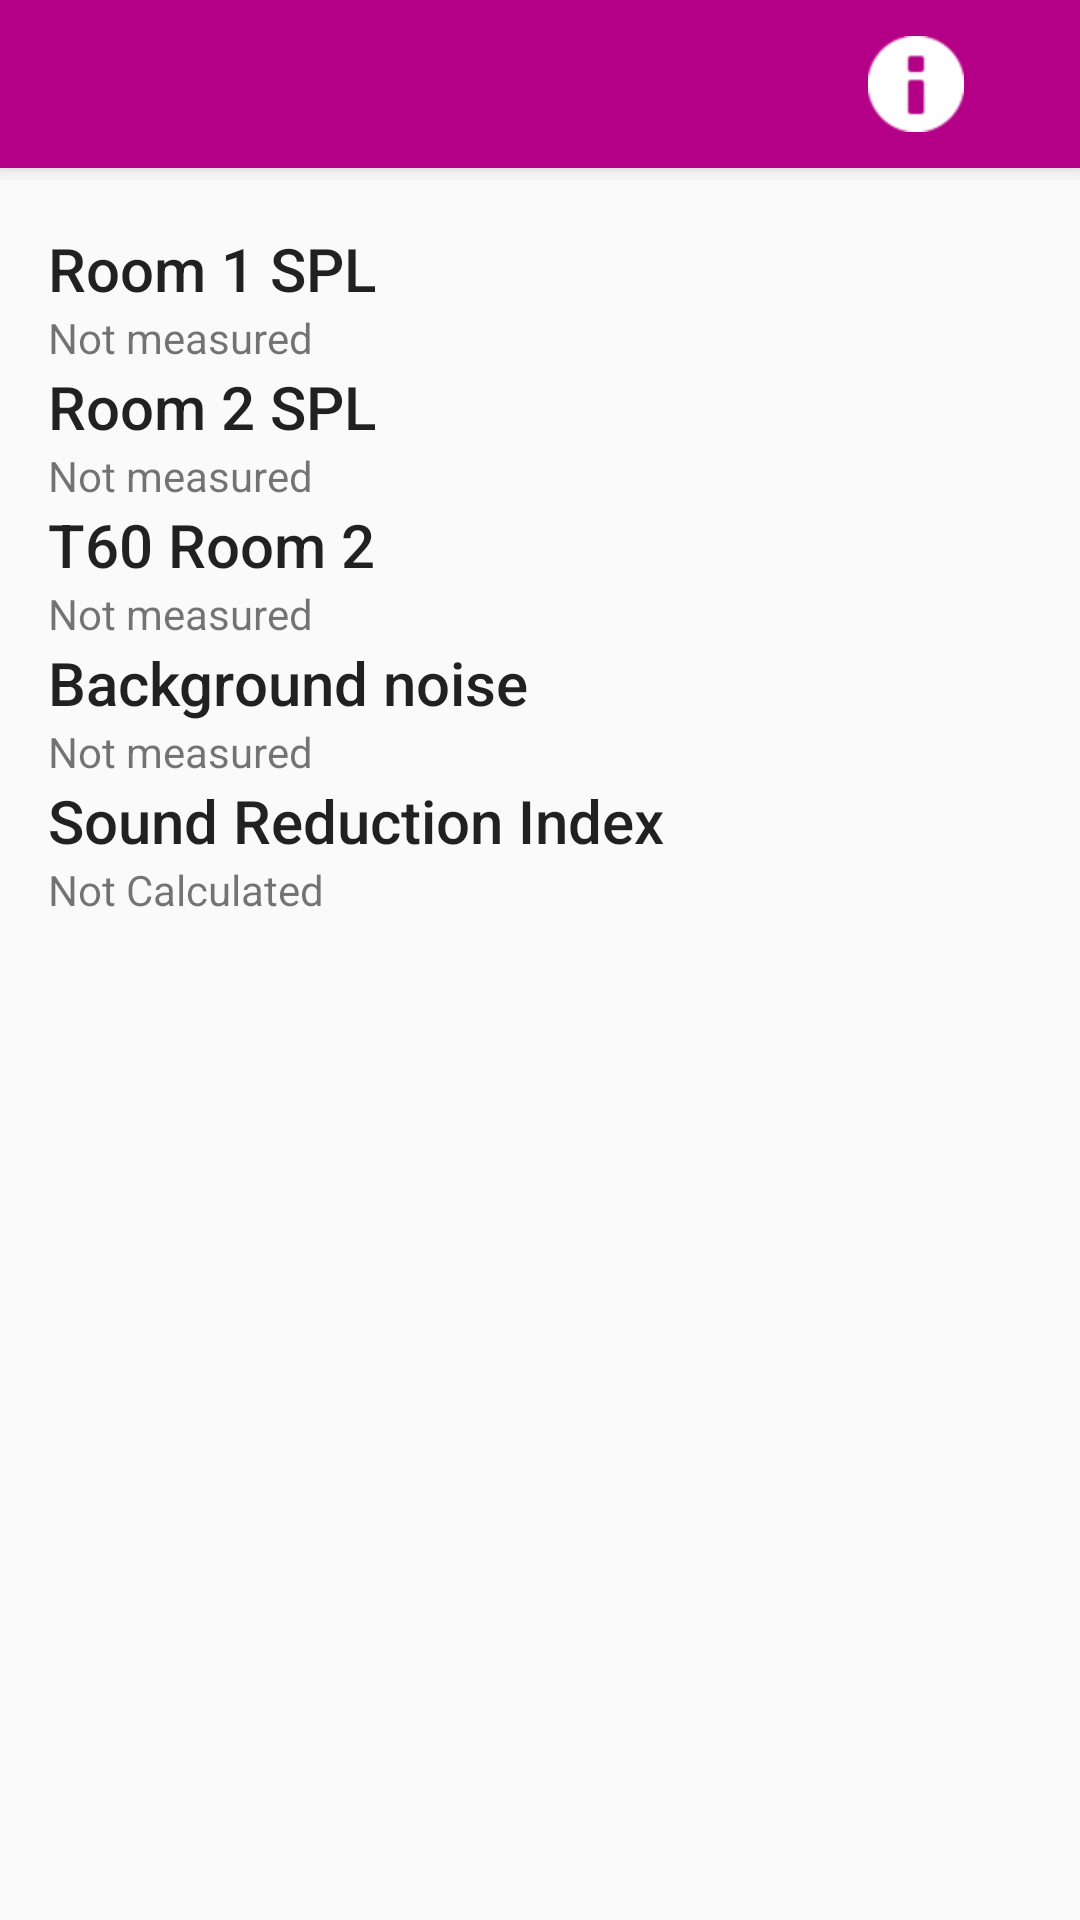

Icons on this 1080 x 1920 Android screen, each with its box as (x1, y1, x2, y2):
info: (868, 36, 964, 132)
